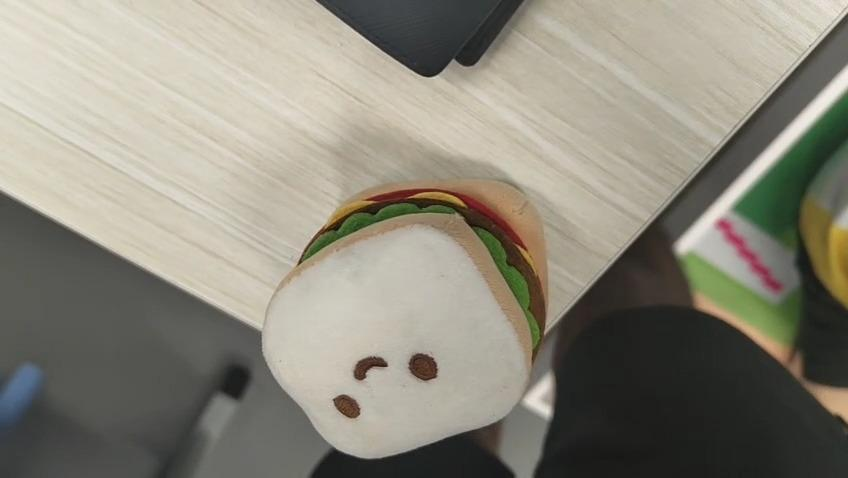objects: (259, 176, 554, 464)
